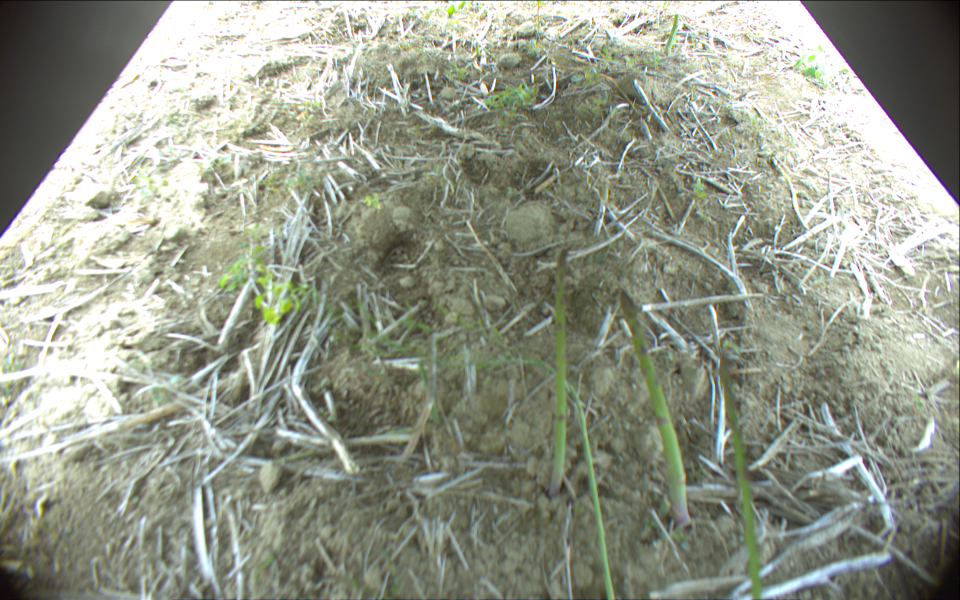aspa: (620, 287, 690, 526), (720, 351, 767, 600), (568, 386, 618, 600), (544, 248, 570, 498), (666, 12, 680, 53)
